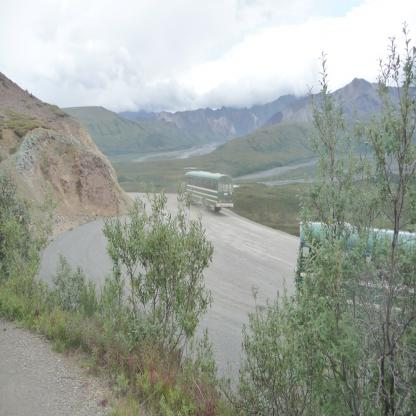Bus: (296, 216, 416, 325), (184, 171, 235, 211)
